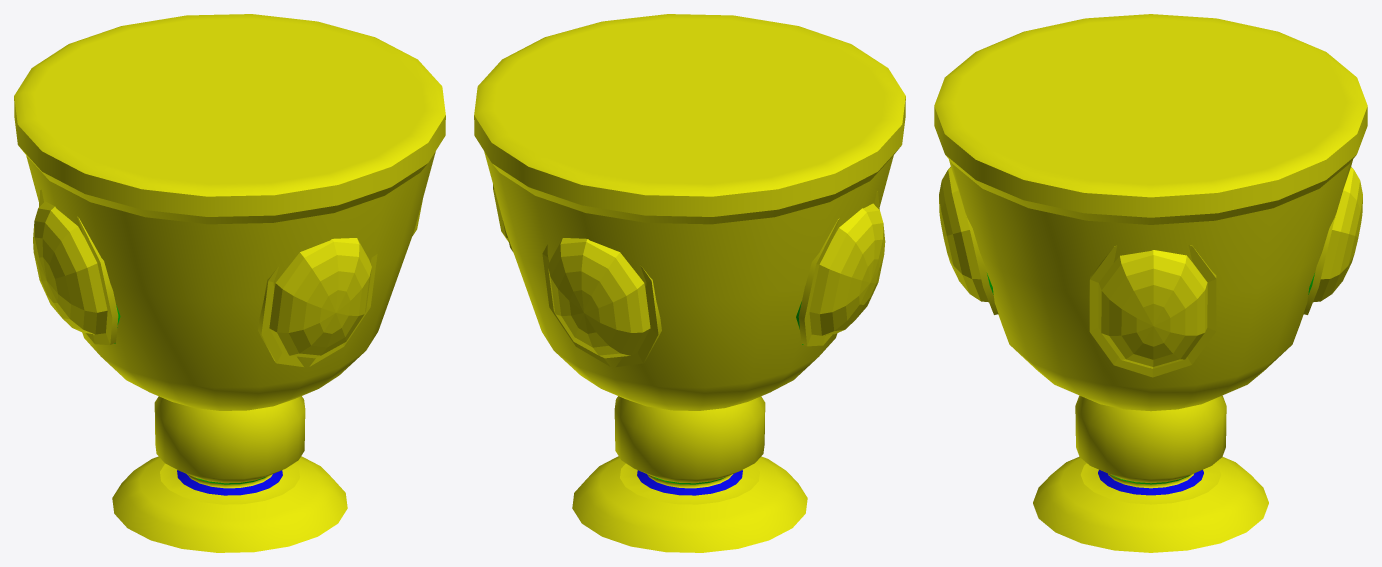
File: HolyGrail.fbx
3 renders of one model, left to right at view 1: azimuth 30°, elevation 25°; view 2: azimuth 150°, elevation 25°; view 3: azimuth 270°, elevation 25°, orthographic.
Visible parts, largest first — view 1: HolyGrail_Outline4, HolyGrail_Outline2; view 2: HolyGrail_Outline4, HolyGrail_Outline2; view 3: HolyGrail_Outline4, HolyGrail_Outline2.
Boxes of the visible parts, x1,y1,x2,y2 form: HolyGrail_Outline4: (14,14,445,552); HolyGrail_Outline2: (177,470,282,495); HolyGrail_Outline4: (474,14,905,552); HolyGrail_Outline2: (637,470,742,495); HolyGrail_Outline4: (934,14,1367,552); HolyGrail_Outline2: (1098,470,1203,495).
Bounding box in the file's own units: 173 × 176 × 173.
